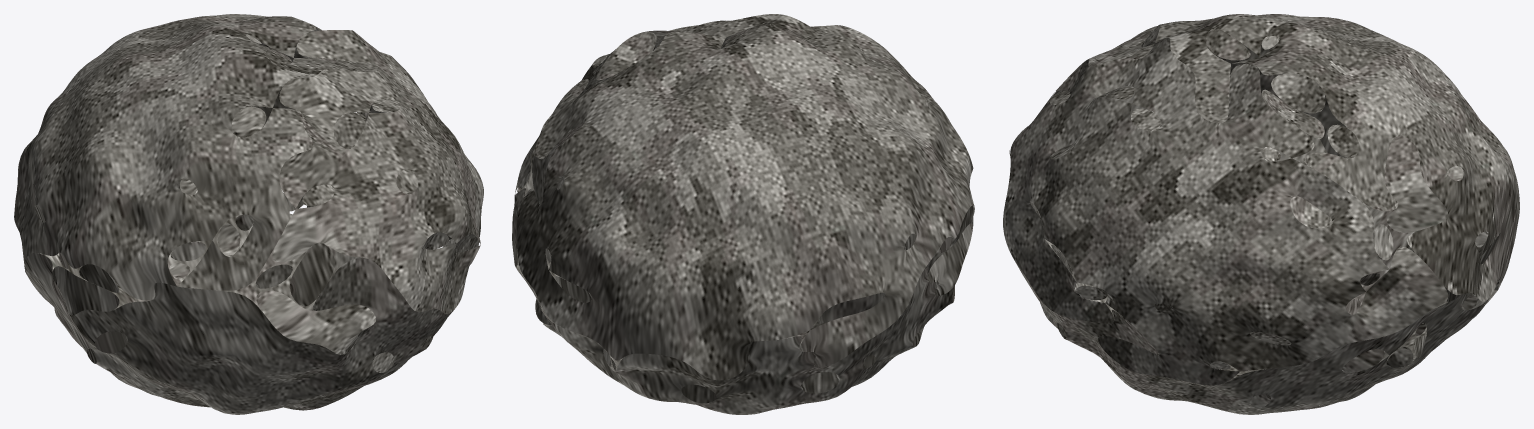
File: rock_largeB.glb
The picture shows the model from 3 angles, left to right: view 1: azimuth 30°, elevation 25°; view 2: azimuth 150°, elevation 25°; view 3: azimuth 270°, elevation 25°; orthographic projection. The views are drawn at different scales.
Visible parts, largest first — view 1: Icosphere; view 2: Icosphere; view 3: Icosphere.
Part boxes in pixels (bbox=[...]): Icosphere: bbox=[14, 14, 483, 414]; Icosphere: bbox=[512, 14, 974, 414]; Icosphere: bbox=[1003, 14, 1519, 414].
Bounding box in the file's own units: 2.42 × 2.08 × 2.69.
Materials: 1 (1 with a texture image).
